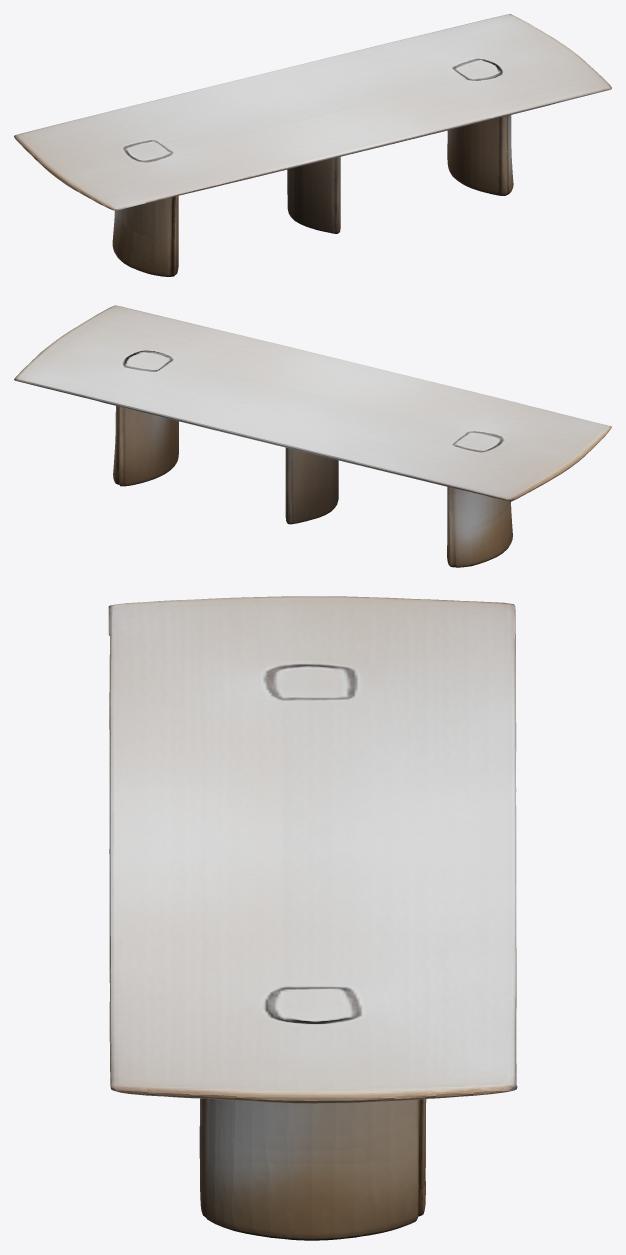
File: 06_简约会议桌.glb
3 renders of one model, top to bottom at view 1: azimuth 30°, elevation 25°; view 2: azimuth 150°, elevation 25°; view 3: azimuth 270°, elevation 25°, orthographic. The views are drawn at different scales.
Visible parts, largest first — view 1: world; view 2: world; view 3: world.
Boxes of the visible parts, x1,y1,x2,y2 form: world: (14,14,611,276); world: (14,305,611,567); world: (108,596,517,1240).
Size of the model in its own units: 1 by 0.1997 by 0.3447.
Materials: 1 (1 with a texture image).
